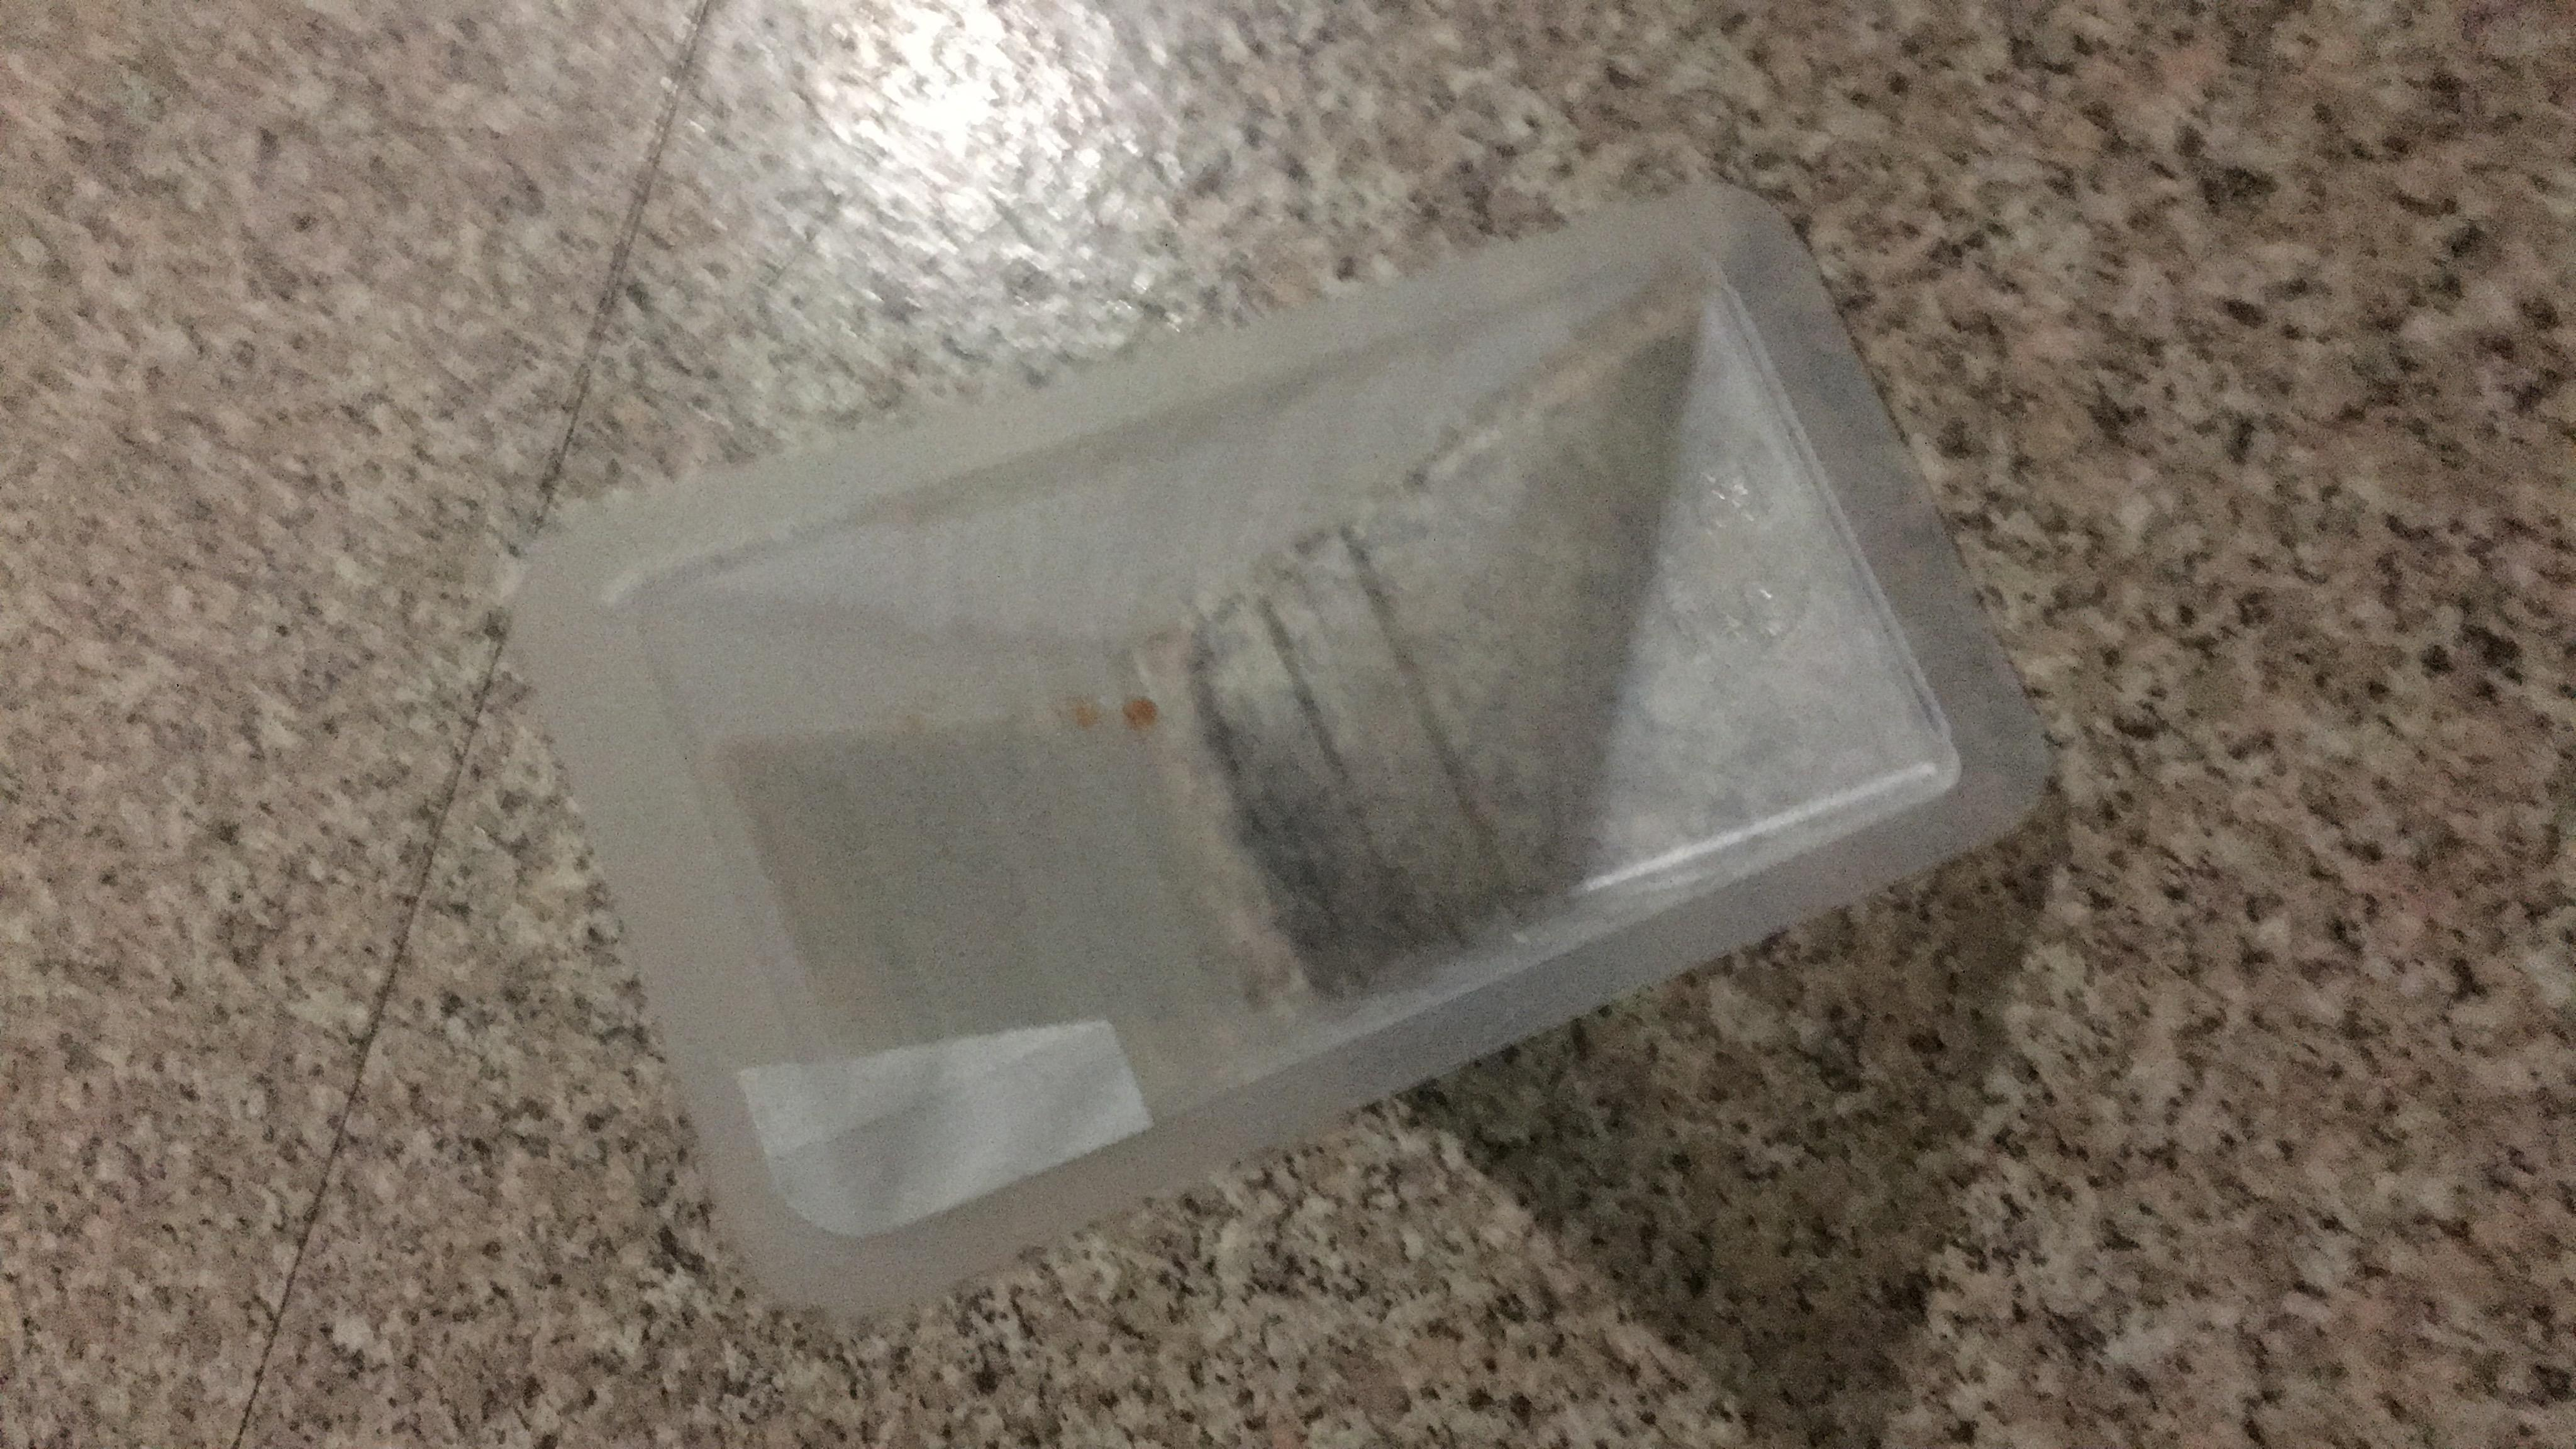bottle: (1265, 350, 1272, 1081)
